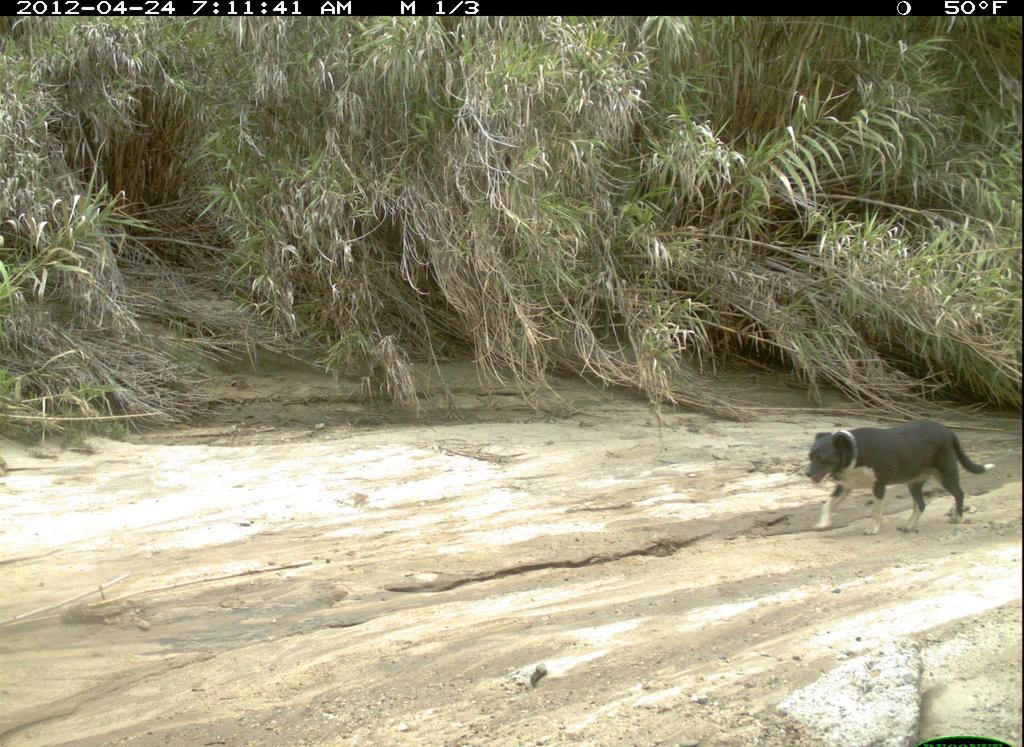dog: (795, 409, 1005, 542)
